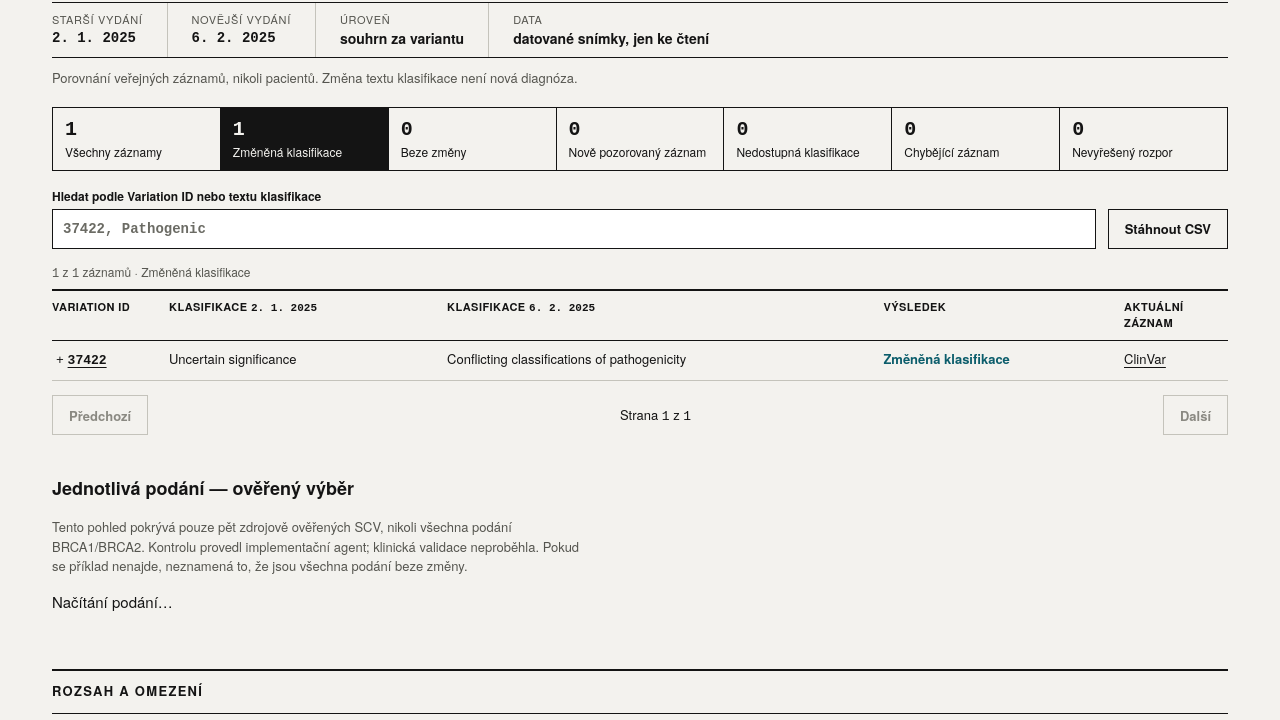
Test: uses same-origin API and preserves redesigned aggregate table/detail/search
The image size is (1280, 720).
(page scrolled)
Click the button named "Detail varianty 37422" at (82, 361), box [52,347,113,374]
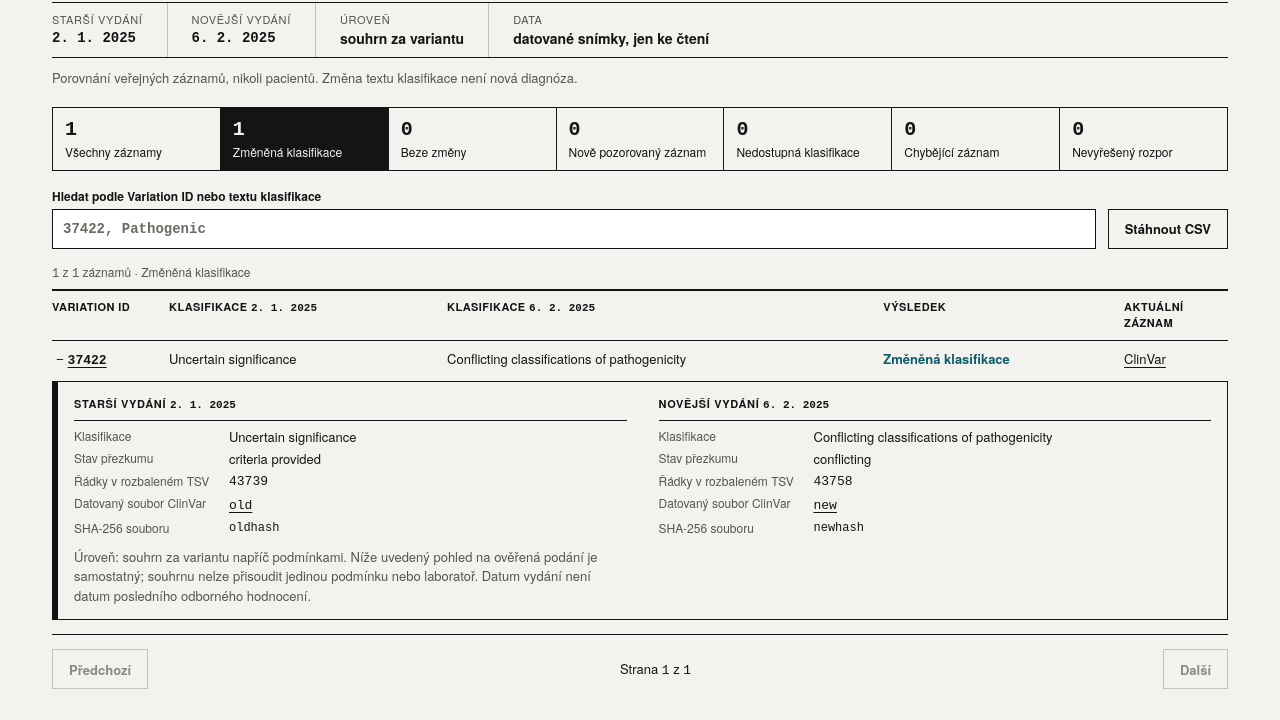
expect the text "oldhash" is shown: met, box [229,521,279,535]
expect the text "newhash" is shown: met, box [814,521,864,535]
Type "999999" into the search field at (574, 229), box [52,209,1096,249]
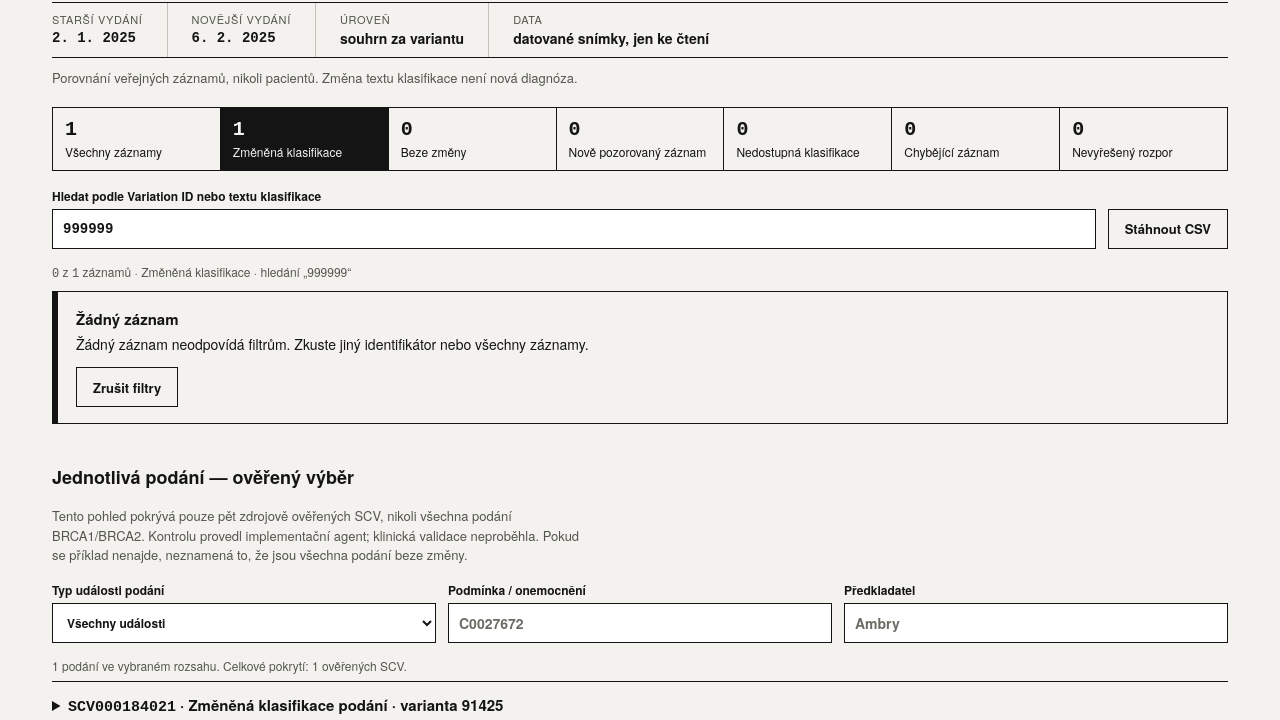
expect the text "Žádný záznam neodpovídá" is shown: met, box [76,334,589,354]
